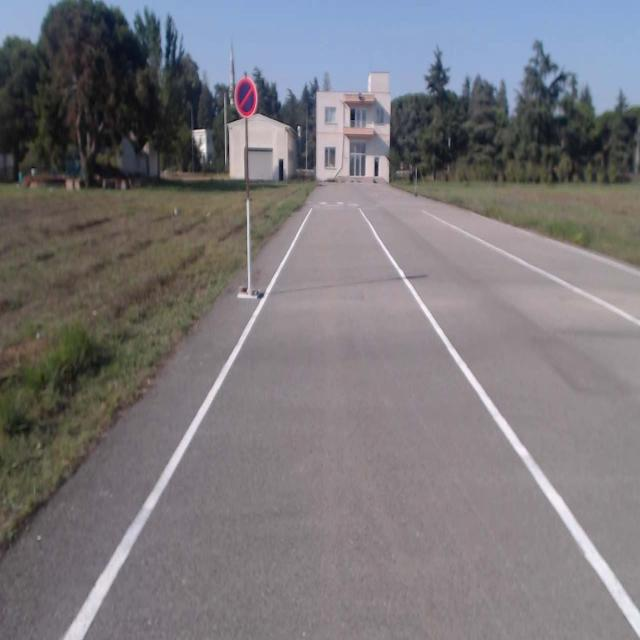parkyasak: (236, 76, 257, 118)
